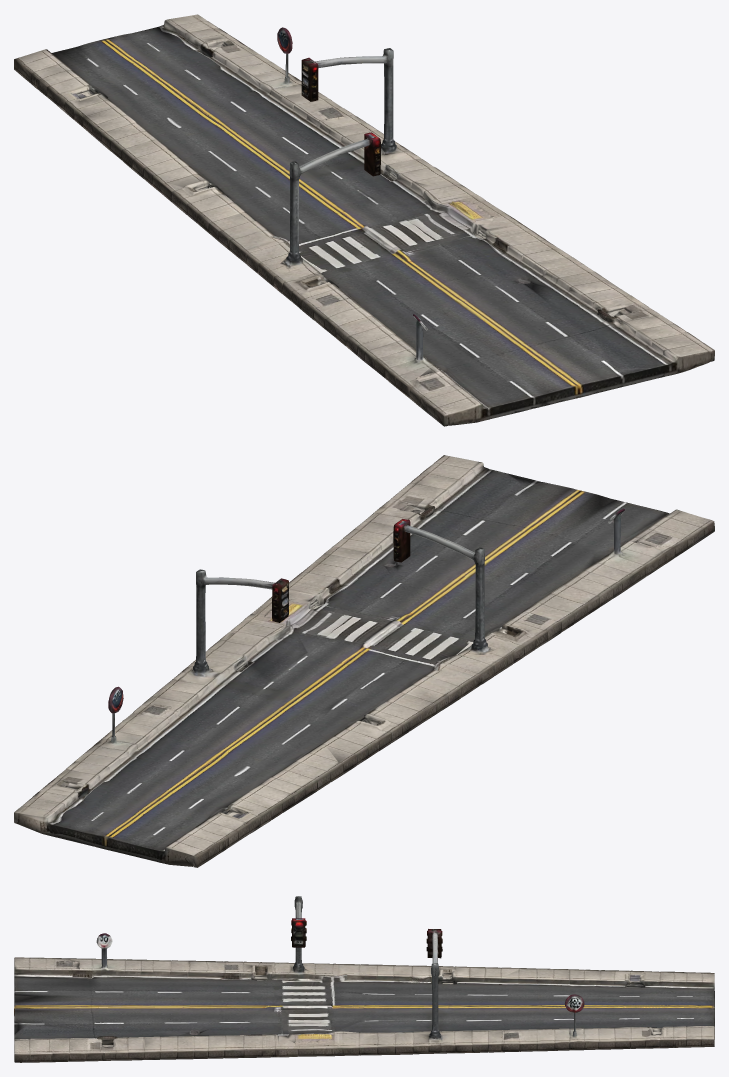
Rendered from city-road.glb.
3 views of the same model, one above another, from view 1: azimuth 30°, elevation 25°; view 2: azimuth 150°, elevation 25°; view 3: azimuth 270°, elevation 25° (orthographic). The views are drawn at different scales.
Parts seen in each view (by area): view 1: tripo_node_df591b73-23f5-4370-b6f6-151d84d8765a; view 2: tripo_node_df591b73-23f5-4370-b6f6-151d84d8765a; view 3: tripo_node_df591b73-23f5-4370-b6f6-151d84d8765a.
Part boxes in pixels (<box>): tripo_node_df591b73-23f5-4370-b6f6-151d84d8765a: <box>14,14,714,426</box>; tripo_node_df591b73-23f5-4370-b6f6-151d84d8765a: <box>14,455,714,867</box>; tripo_node_df591b73-23f5-4370-b6f6-151d84d8765a: <box>14,896,714,1062</box>.
Size of the model in its own units: 0.3235 by 0.1421 by 0.9784.
Materials: 1 (1 with a texture image).
